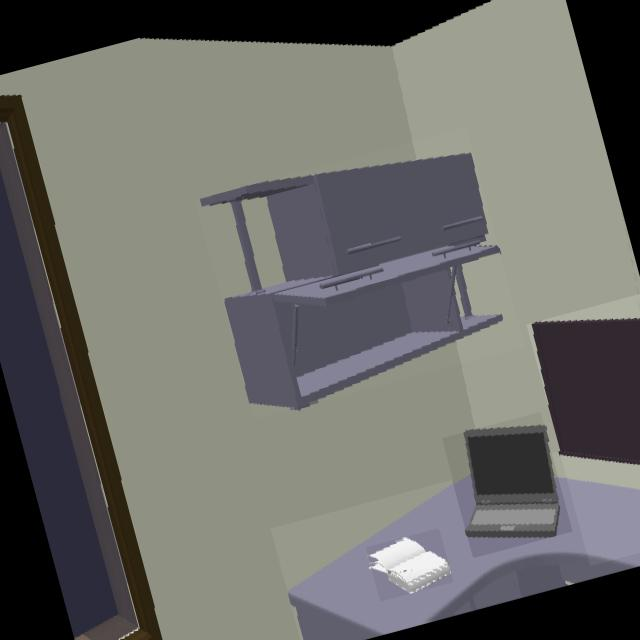book: (371, 538, 451, 593)
cabinet: (202, 156, 501, 406)
laptop: (466, 425, 560, 536)
monitor: (535, 319, 640, 464)
table: (288, 475, 640, 640)
